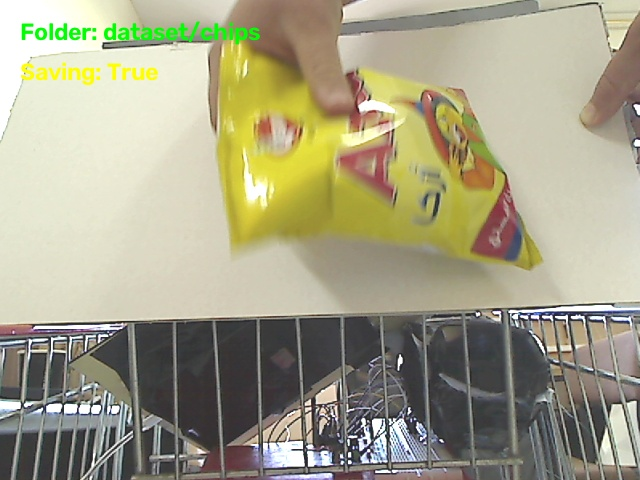chips: (218, 43, 541, 268)
